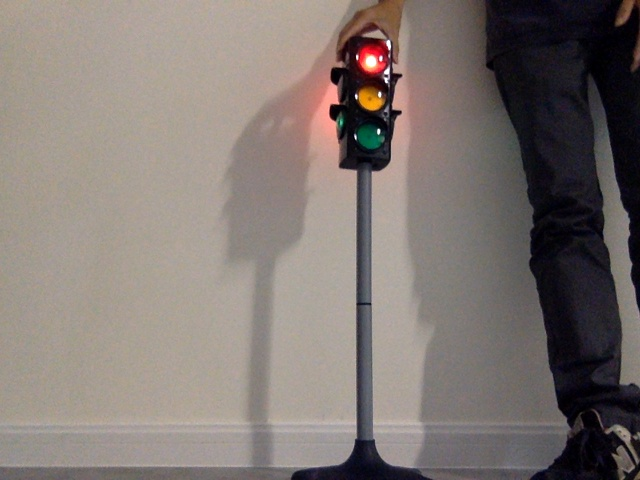red: (345, 45, 389, 149)
